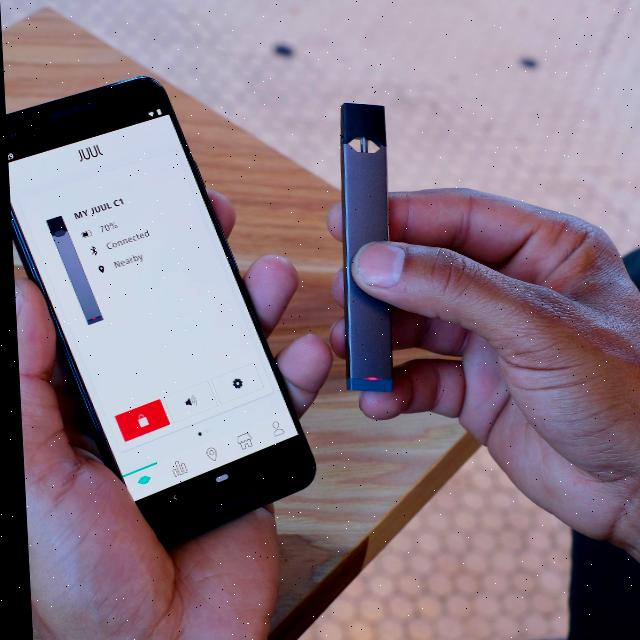vape: (329, 100, 397, 394), (43, 216, 101, 326)
